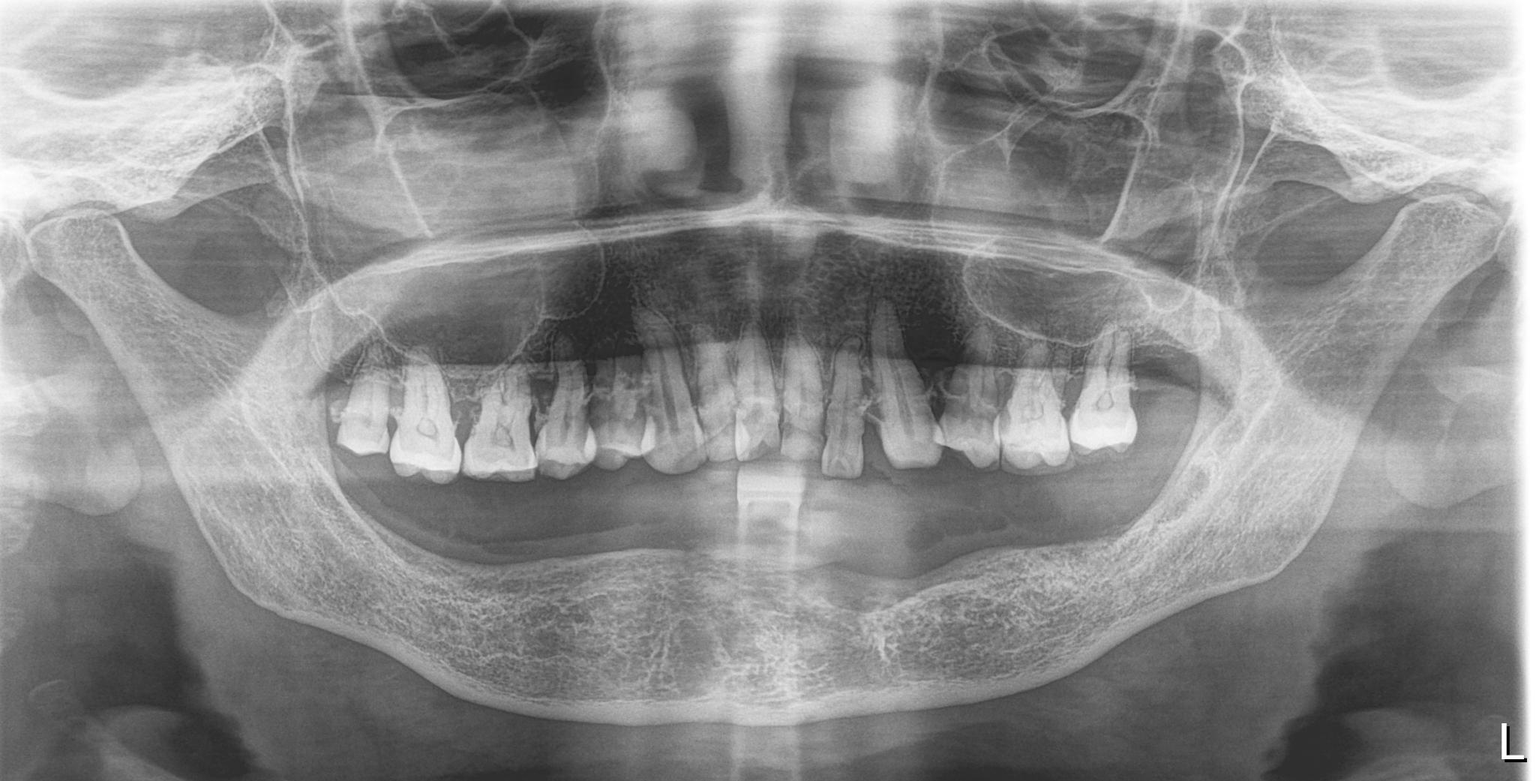Missing Tooth: (1134, 338, 1210, 456), (448, 506, 487, 609), (652, 525, 688, 634), (399, 501, 442, 592), (859, 371, 895, 478), (493, 512, 529, 616), (553, 508, 583, 627), (598, 518, 632, 622), (366, 506, 400, 589), (703, 520, 728, 624)
